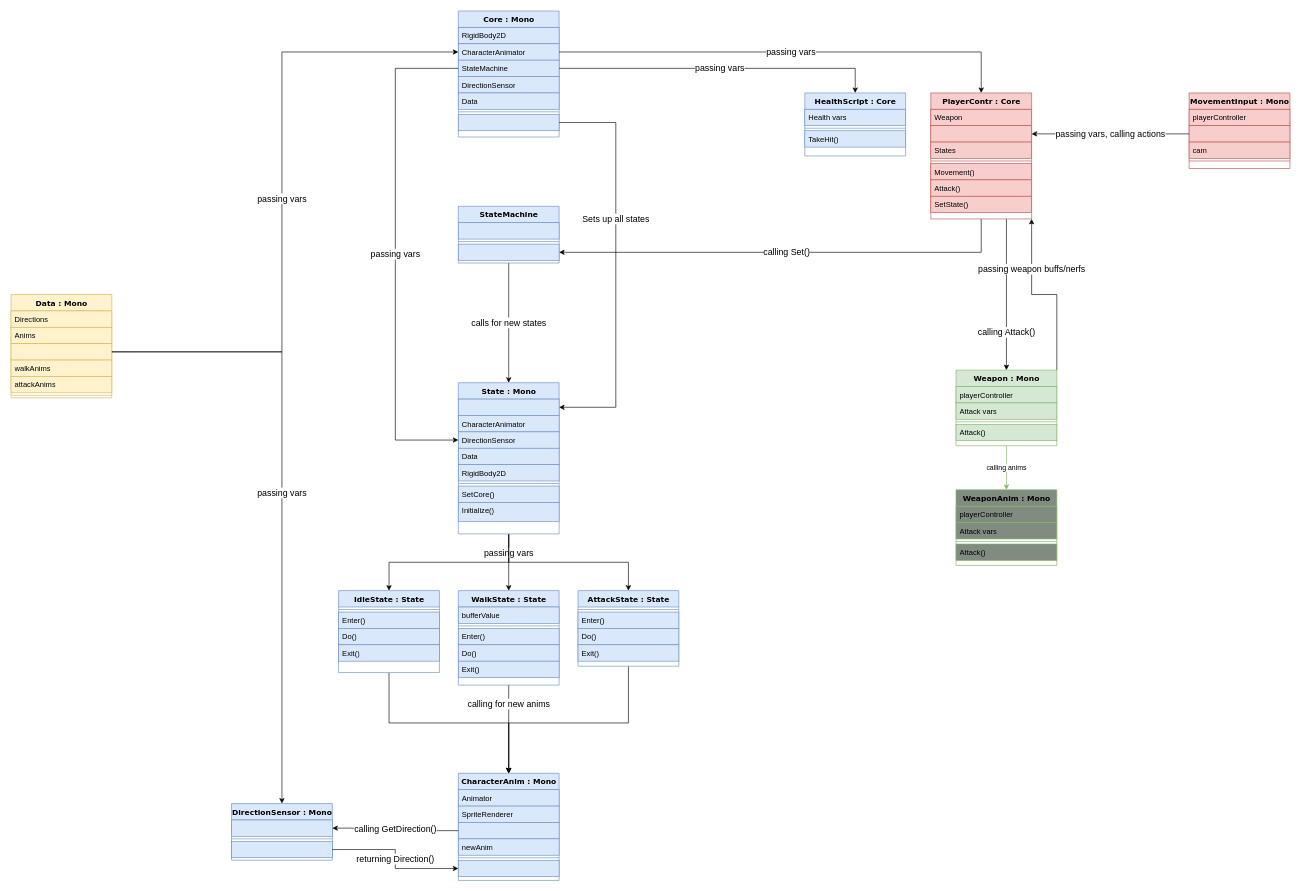
Image size: 1301x891. Some labels were removed from this diagram. The centre of each missing label's shape, as x and y in pixels:
"Actions" belongs at pixel 1239 133.
"Core" belongs at pixel 508 406.
"currentAnim" belongs at pixel 508 830.
"GetDirection()" belongs at pixel 281 849.
"idleAnims" belongs at pixel 61 351.
"lastDirection" belongs at pixel 281 827.
"Movement Vars" belongs at pixel 981 133.
"Set()" belongs at pixel 508 252.
"SetAnimation()" belongs at pixel 508 868.
"SetupInstances()" belongs at pixel 508 122.
"State" belongs at pixel 508 230.
